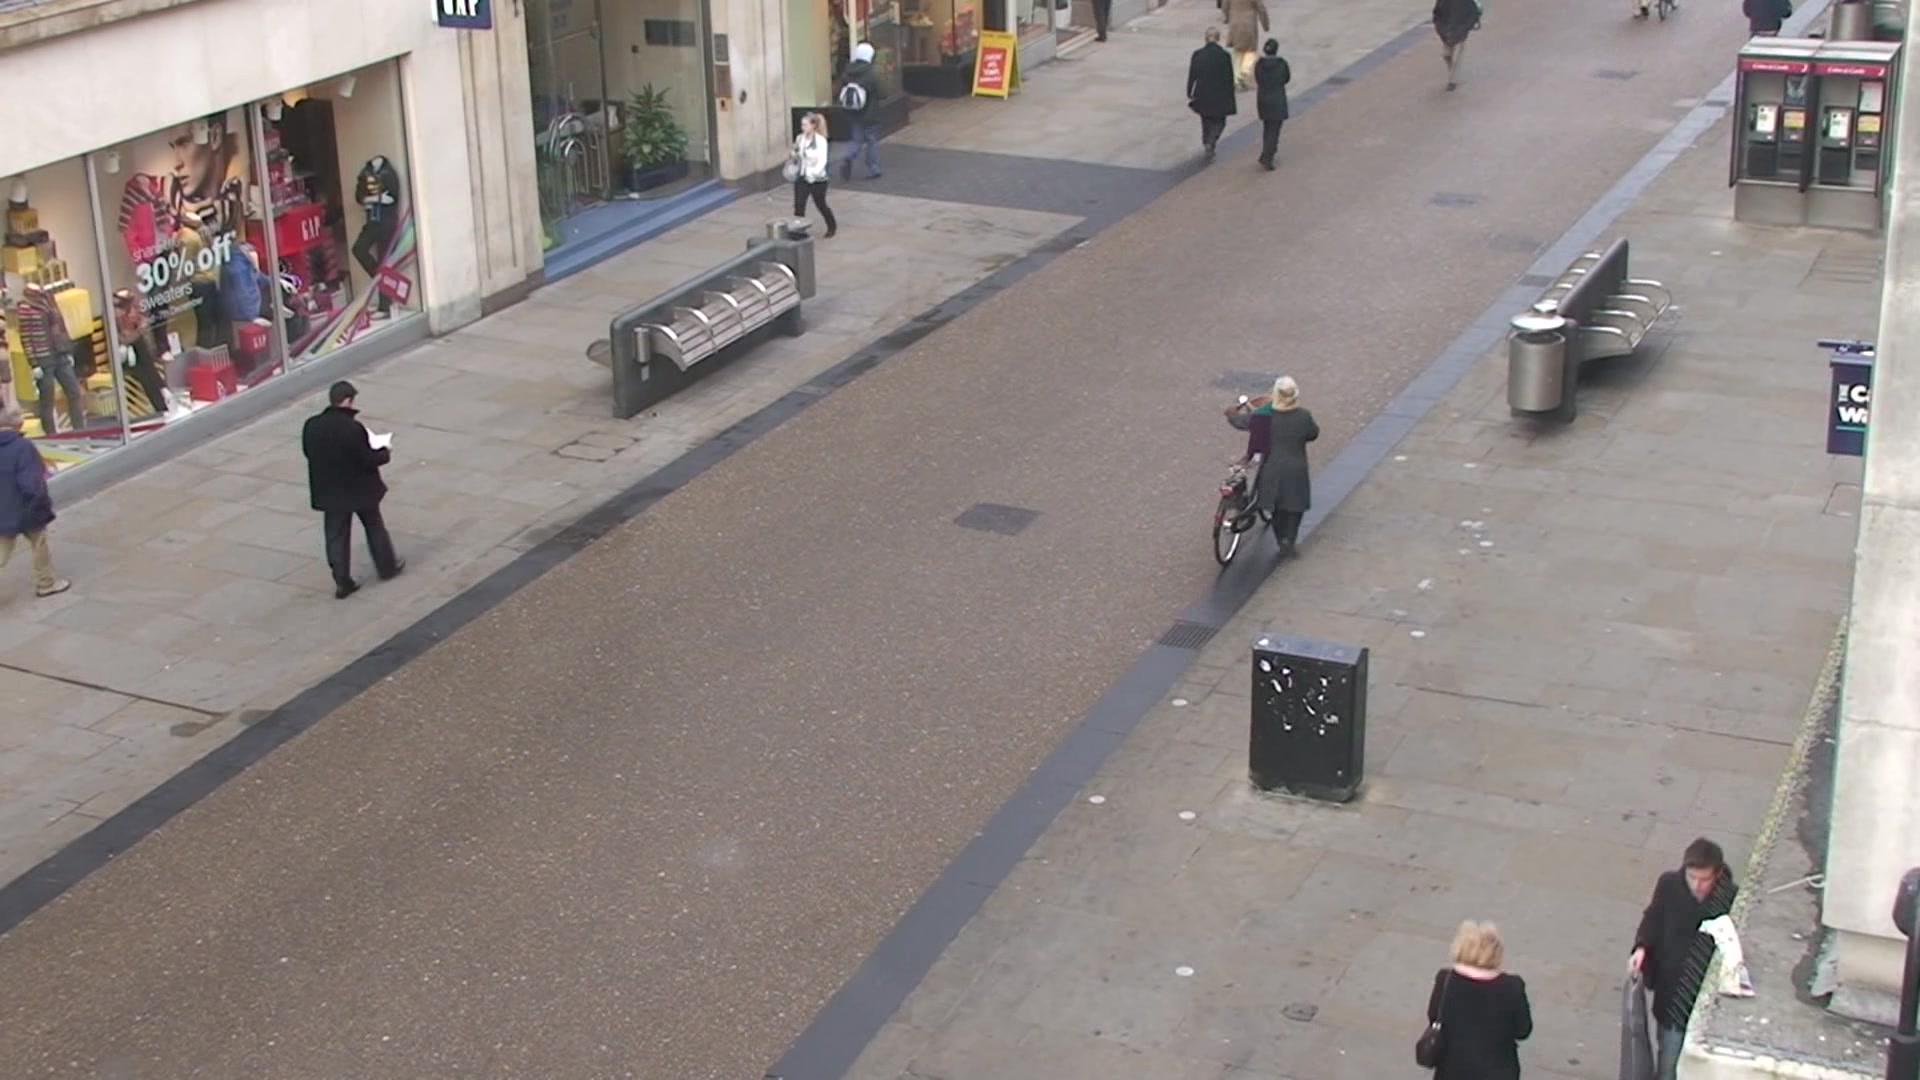person: (301, 381, 406, 601), (1224, 375, 1320, 560), (833, 42, 886, 183), (784, 111, 837, 247), (1189, 26, 1236, 165), (1252, 38, 1292, 172)
